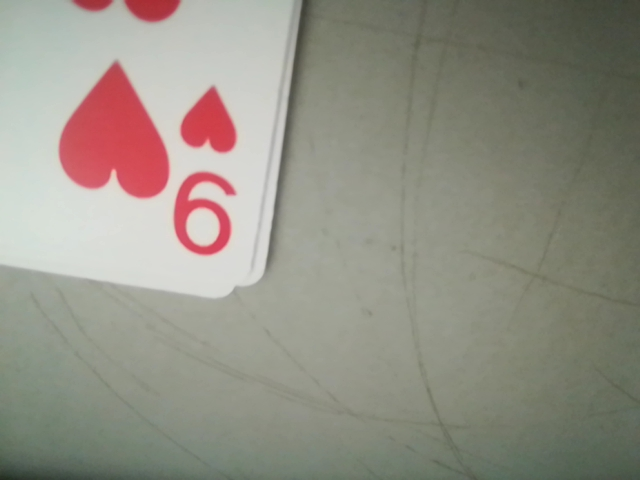hx 9: (169, 81, 253, 273)
